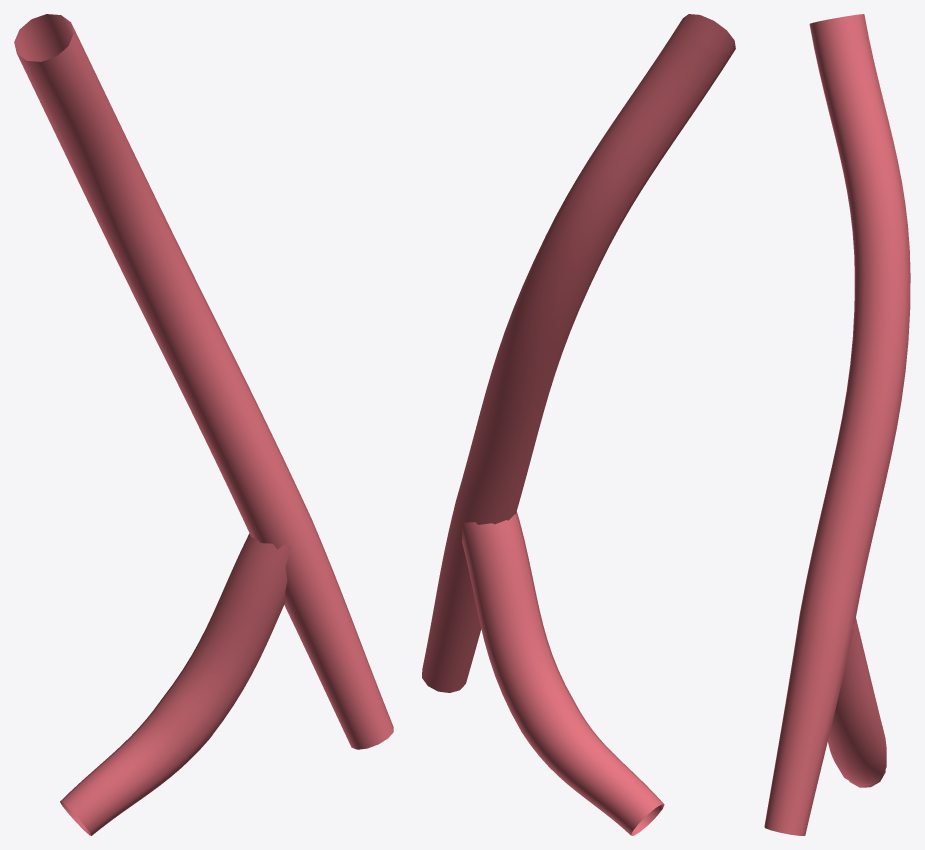
3 renders of one model, left to right at view 1: azimuth 30°, elevation 25°; view 2: azimuth 150°, elevation 25°; view 3: azimuth 270°, elevation 25°, orthographic. The views are drawn at different scales.
Parts seen in each view (by area): view 1: ZA_e396a75df35d49c6; view 2: ZA_e396a75df35d49c6; view 3: ZA_e396a75df35d49c6.
Boxes of the visible parts, left/top/right/bottom form: ZA_e396a75df35d49c6: left=14, top=14, right=393, bottom=835; ZA_e396a75df35d49c6: left=422, top=14, right=735, bottom=835; ZA_e396a75df35d49c6: left=764, top=14, right=910, bottom=835.
Bounding box in the file's own units: 0.0252 × 0.0586 × 0.0103.
